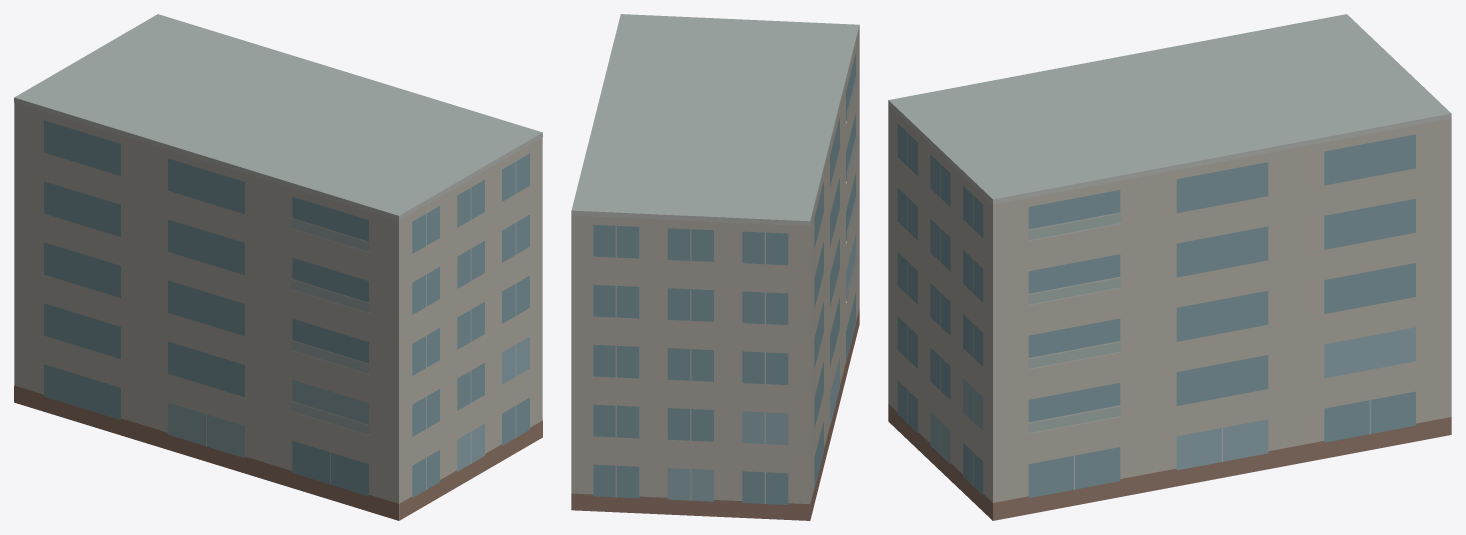
The model's file is residential-b931b283-7d44-4cac-913e-1e360347754d.glb.
3 renders of one model, left to right at view 1: azimuth 30°, elevation 25°; view 2: azimuth 150°, elevation 25°; view 3: azimuth 270°, elevation 25°, orthographic. The views are drawn at different scales.
Parts seen in each view (by area): view 1: residential-b931b283-7d44-4cac-913e-1e360347754d.tmp; view 2: residential-b931b283-7d44-4cac-913e-1e360347754d.tmp; view 3: residential-b931b283-7d44-4cac-913e-1e360347754d.tmp.
Boxes of the visible parts, <box> form: residential-b931b283-7d44-4cac-913e-1e360347754d.tmp: <box>14,14,542,520</box>; residential-b931b283-7d44-4cac-913e-1e360347754d.tmp: <box>571,14,859,520</box>; residential-b931b283-7d44-4cac-913e-1e360347754d.tmp: <box>888,14,1451,520</box>.
Size of the model in its own units: 18.88 by 15.25 by 24.22.
